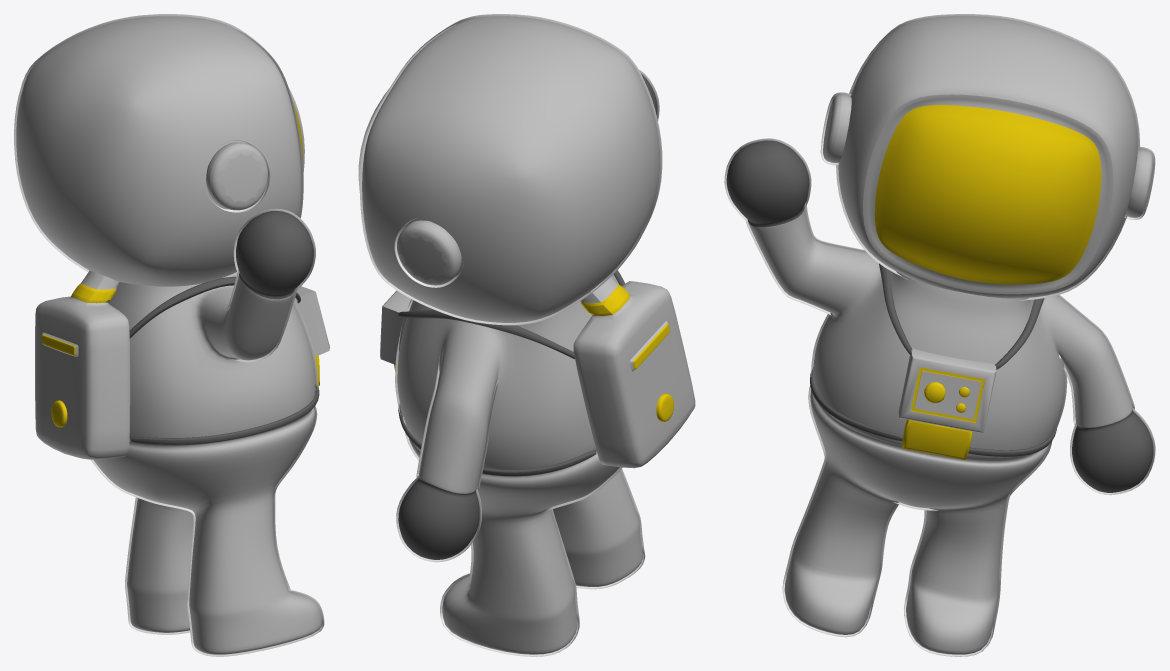
The model's file is Astronaut.glb.
The picture shows the model from 3 angles, left to right: view 1: azimuth 30°, elevation 25°; view 2: azimuth 150°, elevation 25°; view 3: azimuth 270°, elevation 25°; orthographic projection. The views are drawn at different scales.
Parts seen in each view (by area): view 1: Body, Head, Sphere.002, Sphere.003, Sphere.001; view 2: Head, Body, Sphere.002, Sphere.003, Sphere.001; view 3: Body, Head, Sphere.001, Sphere.003.
Part boxes in pixels (<box>): Body: <box>91,208,324,656</box>; Head: <box>14,14,304,286</box>; Sphere.002: <box>35,270,130,459</box>; Sphere.003: <box>129,276,319,444</box>; Sphere.001: <box>293,286,329,386</box>; Head: <box>358,14,662,325</box>; Body: <box>395,69,659,656</box>; Sphere.002: <box>573,277,695,468</box>; Sphere.003: <box>398,270,624,476</box>; Sphere.001: <box>380,290,412,371</box>; Body: <box>724,138,1155,656</box>; Head: <box>820,14,1155,300</box>; Sphere.001: <box>898,348,996,459</box>; Sphere.003: <box>810,263,1056,456</box>.
Size of the model in its own units: 2.83 by 6.19 by 4.06.
